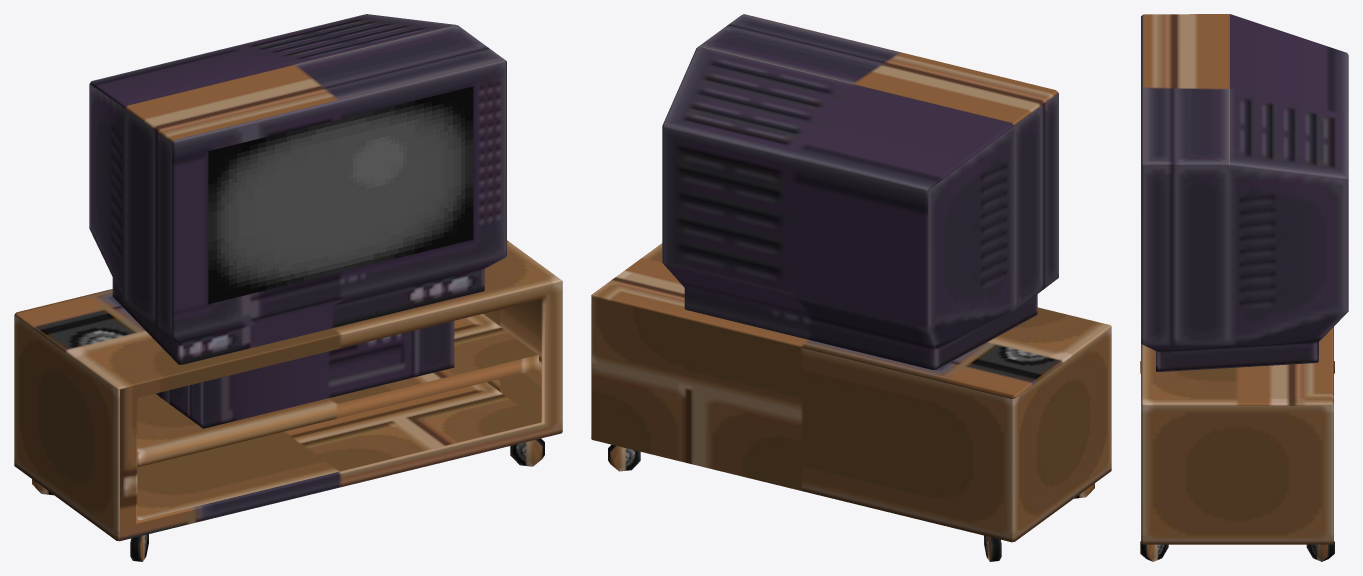
File: int_oth_wide_tv.dae
3 views of the same model, side by side, from view 1: azimuth 30°, elevation 25°; view 2: azimuth 150°, elevation 25°; view 3: azimuth 270°, elevation 25° (orthographic). The views are drawn at different scales.
Visible parts, largest first — view 1: int_oth_wide_tv; view 2: int_oth_wide_tv; view 3: int_oth_wide_tv.
Boxes of the visible parts, x1,y1,x2,y2 form: int_oth_wide_tv: (14, 14, 562, 561); int_oth_wide_tv: (591, 14, 1111, 561); int_oth_wide_tv: (1140, 14, 1348, 561).
Size of the model in its own units: 51.2 by 45.6 by 22.5.
Materials: 3 (3 with a texture image).
